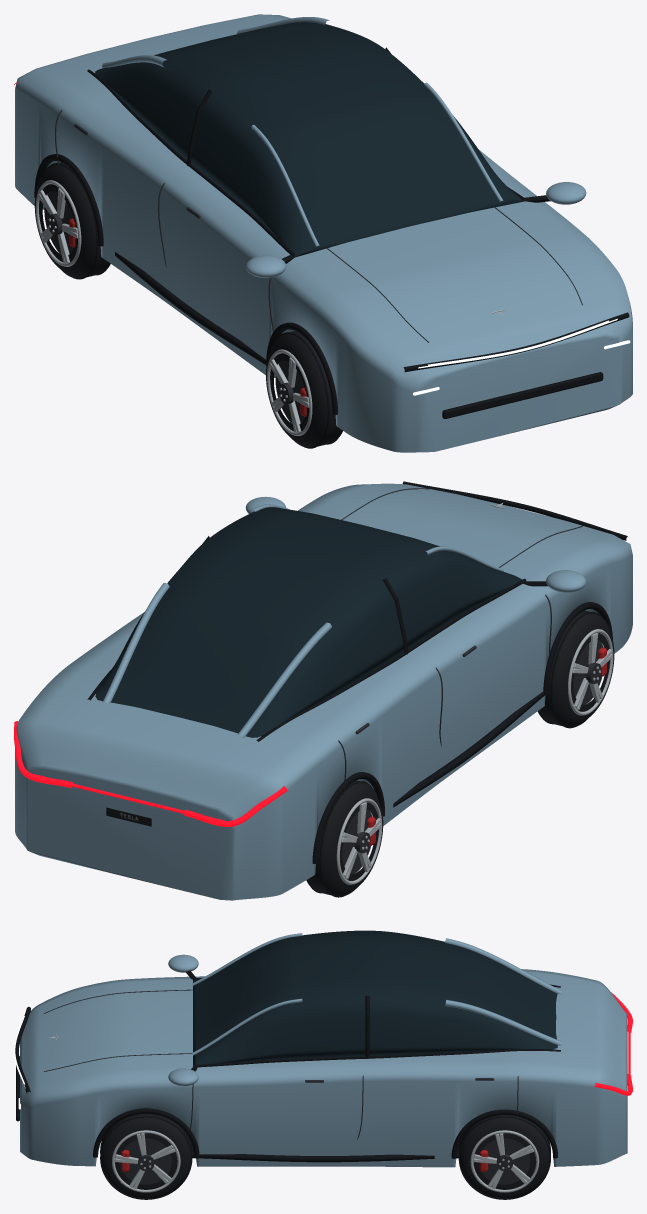
The model's file is tesla-model-y.glb.
3 views of the same model, one above another, from view 1: azimuth 30°, elevation 25°; view 2: azimuth 150°, elevation 25°; view 3: azimuth 270°, elevation 25° (orthographic). The views are drawn at different scales.
Parts seen in each view (by area): view 1: body-paint (×3), tinted-glass, black-polymer (×3), tire-rubber, machined-alloy, graphite-metal (×2), headlight-lens; view 2: body-paint (×3), tinted-glass, black-polymer (×3), tire-rubber, machined-alloy, graphite-metal (×2), tail-light-lens; view 3: body-paint (×3), tinted-glass, tire-rubber, black-polymer (×3), graphite-metal (×2), machined-alloy, tail-light-lens.
Part boxes in pixels (x1,y1,x2,y2): body-paint (×3): [15, 14, 632, 452]; tinted-glass: [95, 22, 524, 257]; black-polymer (×3): [34, 47, 629, 448]; tire-rubber: [34, 162, 342, 447]; machined-alloy: [35, 180, 312, 435]; graphite-metal (×2): [44, 110, 582, 422]; headlight-lens: [413, 318, 630, 395]; body-paint (×3): [15, 483, 632, 900]; tinted-glass: [95, 507, 522, 737]; black-polymer (×3): [87, 481, 627, 897]; tire-rubber: [306, 610, 614, 896]; machined-alloy: [336, 629, 613, 884]; graphite-metal (×2): [338, 488, 602, 873]; tail-light-lens: [14, 721, 287, 826]; body-paint (×3): [20, 933, 627, 1167]; tinted-glass: [193, 930, 557, 1064]; tire-rubber: [100, 1114, 550, 1199]; black-polymer (×3): [15, 970, 560, 1199]; graphite-metal (×2): [44, 989, 530, 1184]; machined-alloy: [112, 1130, 539, 1192]; tail-light-lens: [594, 992, 632, 1095].
Bounding box in the file's own units: 2.37 × 1.62 × 4.88.
Materials: 11 (1 with a texture image).
